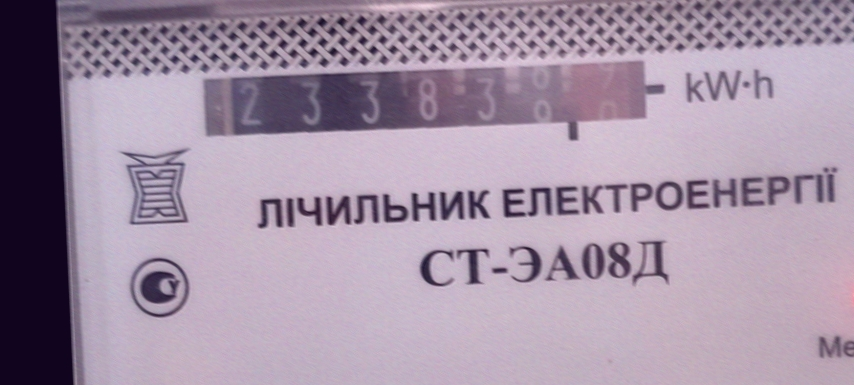0: (594, 95, 621, 121)
2: (234, 78, 264, 128)
3: (295, 77, 325, 128), (357, 76, 383, 127), (472, 73, 499, 122)
8: (414, 75, 440, 121), (526, 64, 555, 91)
9: (527, 94, 555, 125), (593, 60, 619, 89)
screen: (190, 46, 665, 160)
